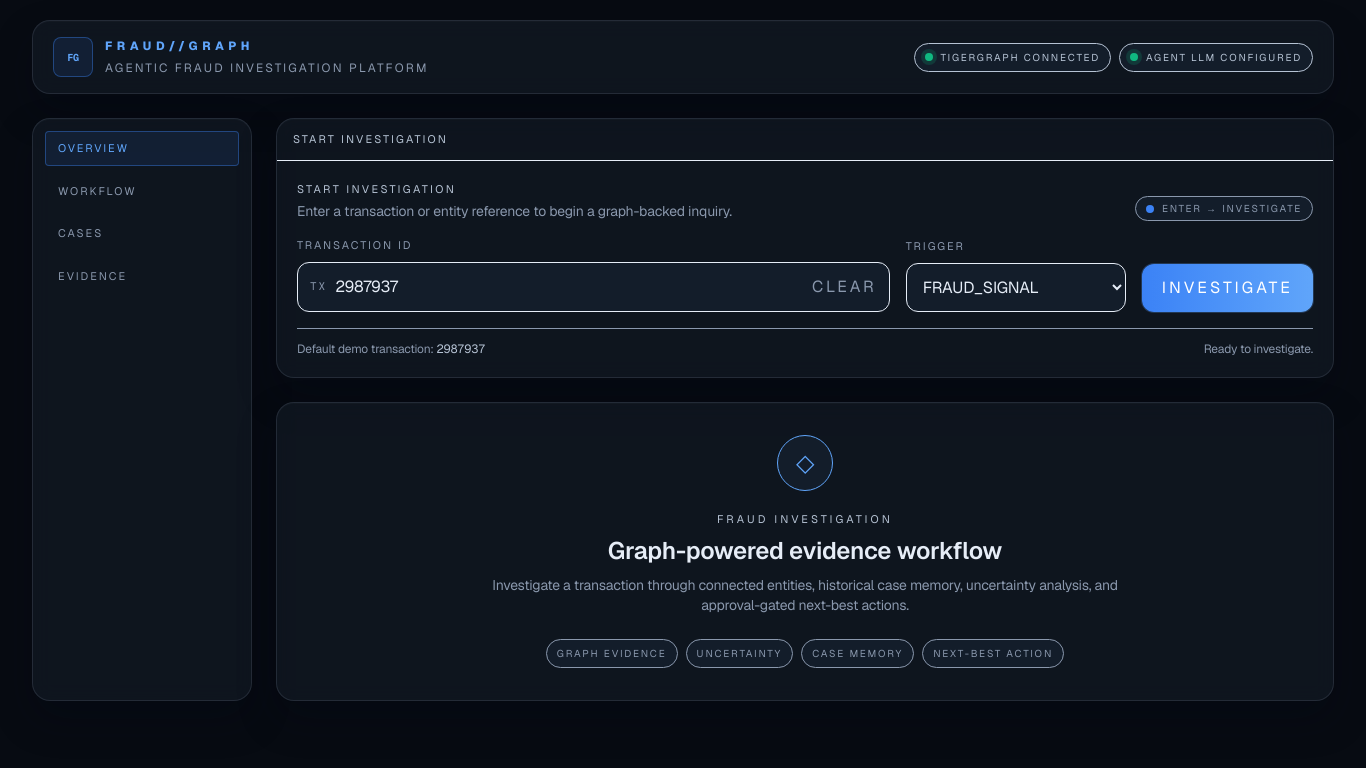
it: Home page - full investigation flow › surfaces a structured API error without crashing when the backend rejects the request
Click the button "INVESTIGATE" at (1227, 288), box [1142, 264, 1313, 312]
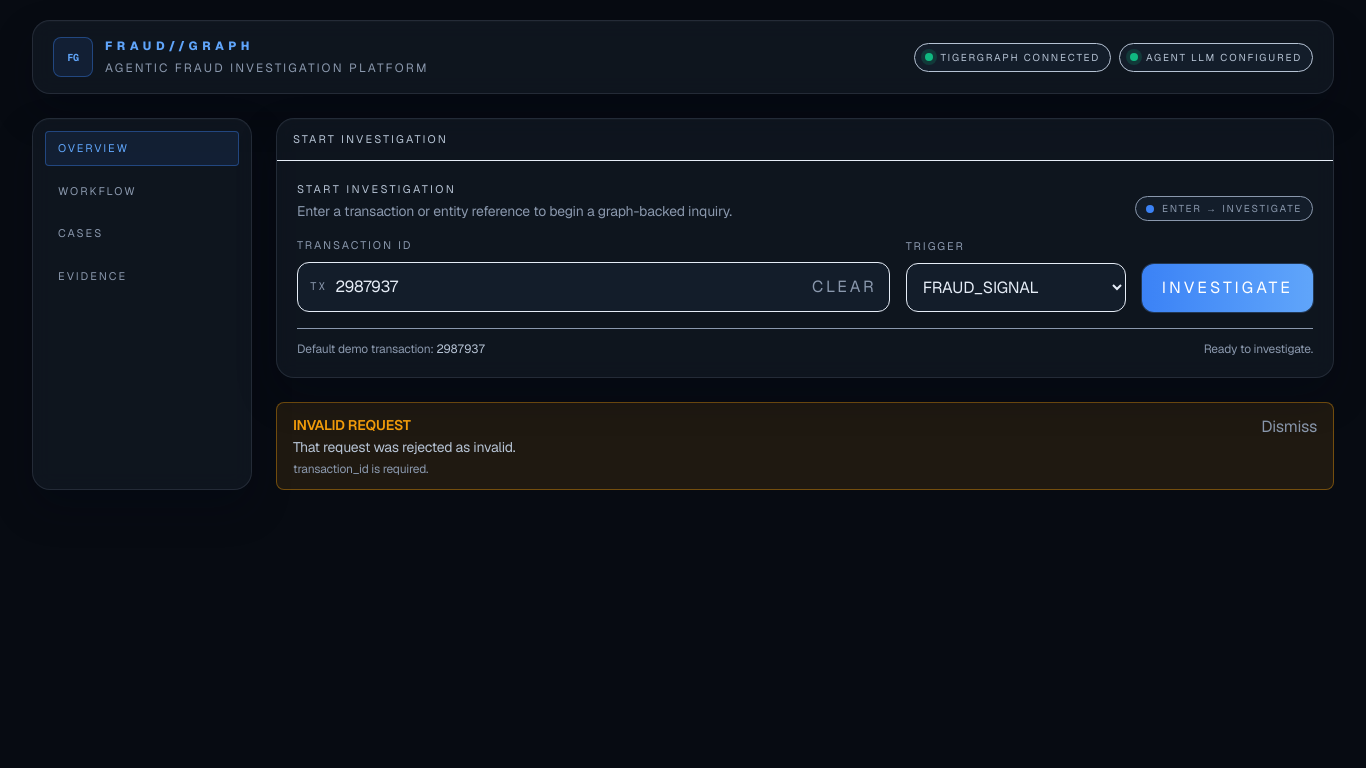
Now the text "INVALID REQUEST" is shown, box [293, 416, 411, 434]
